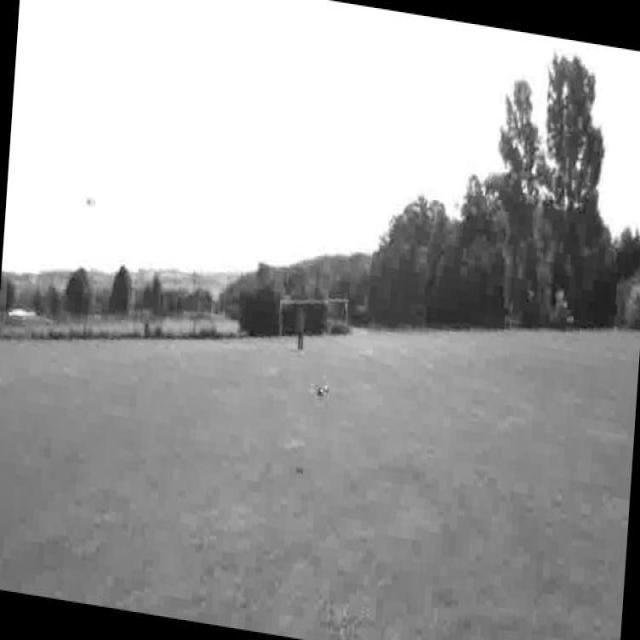drone: (306, 374, 334, 404)
